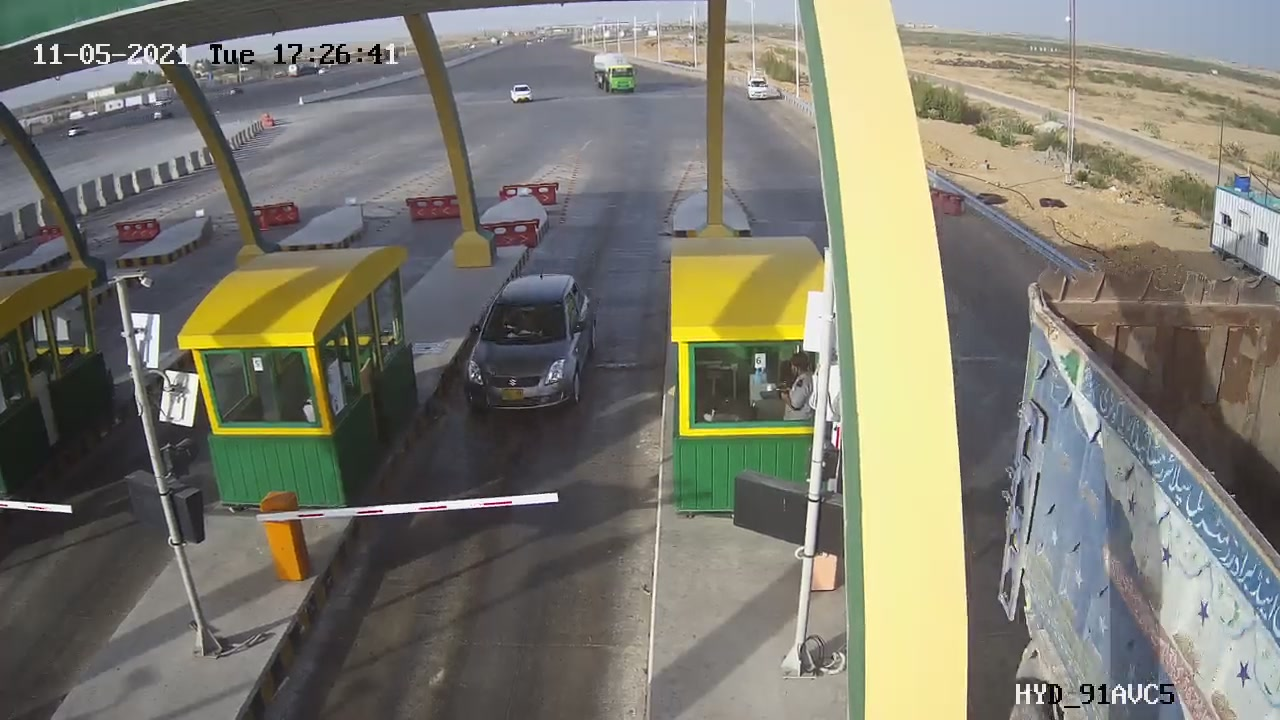F1: (451, 259, 614, 433)
